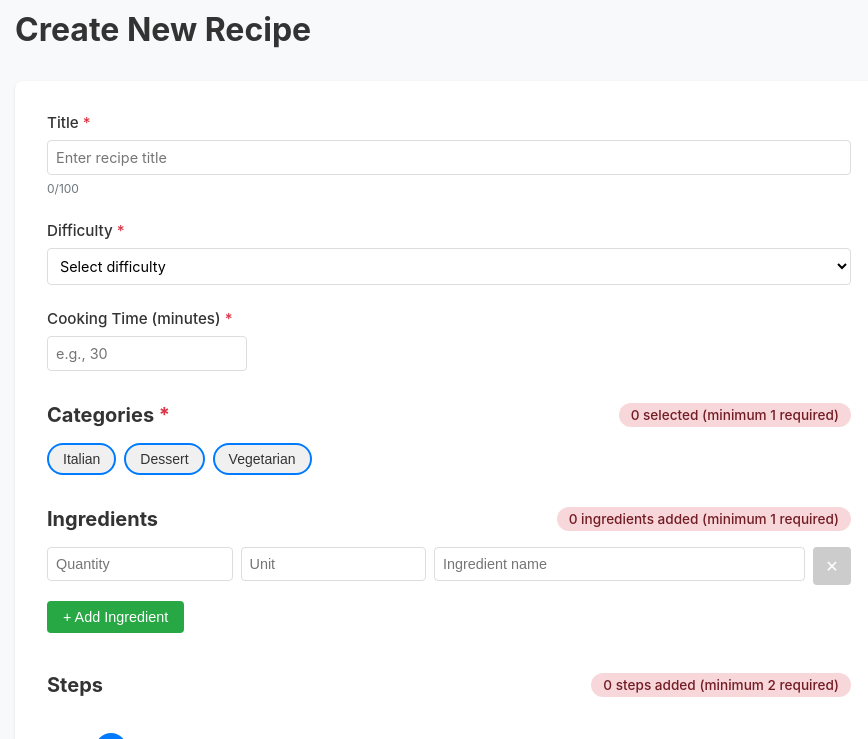
Test: CreateRecipeView › Basic Info Section - Title Field › displays character counter for title field
Expected: the text "0/100" is shown, [47,180,79,196]
In the field labelled "Title *": coordinates (449, 158) [47,140,851,175], type "Test"
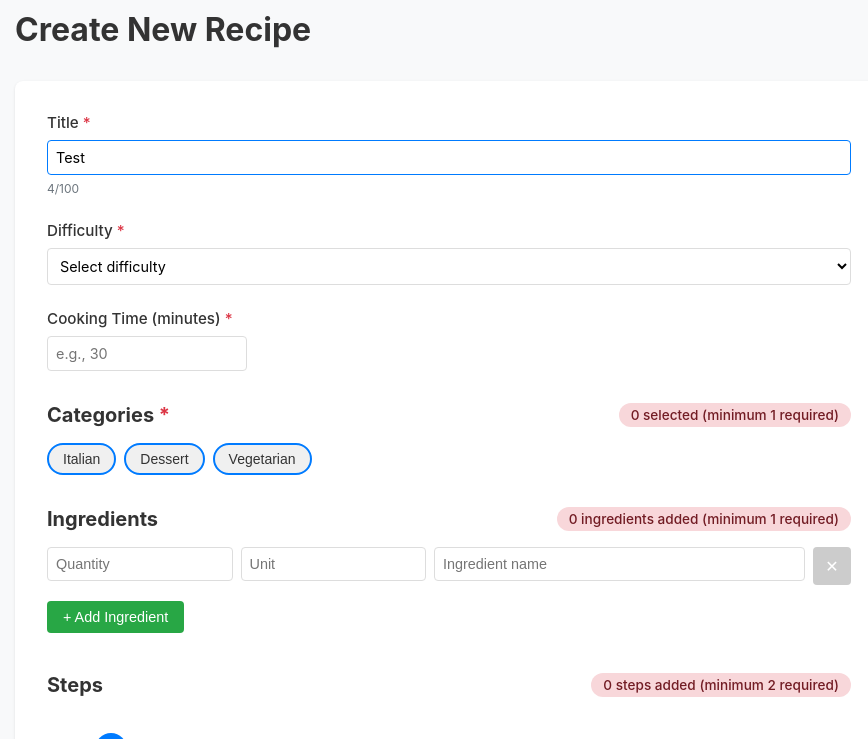
Result: the text "4/100" is shown at [47,180,79,196]
